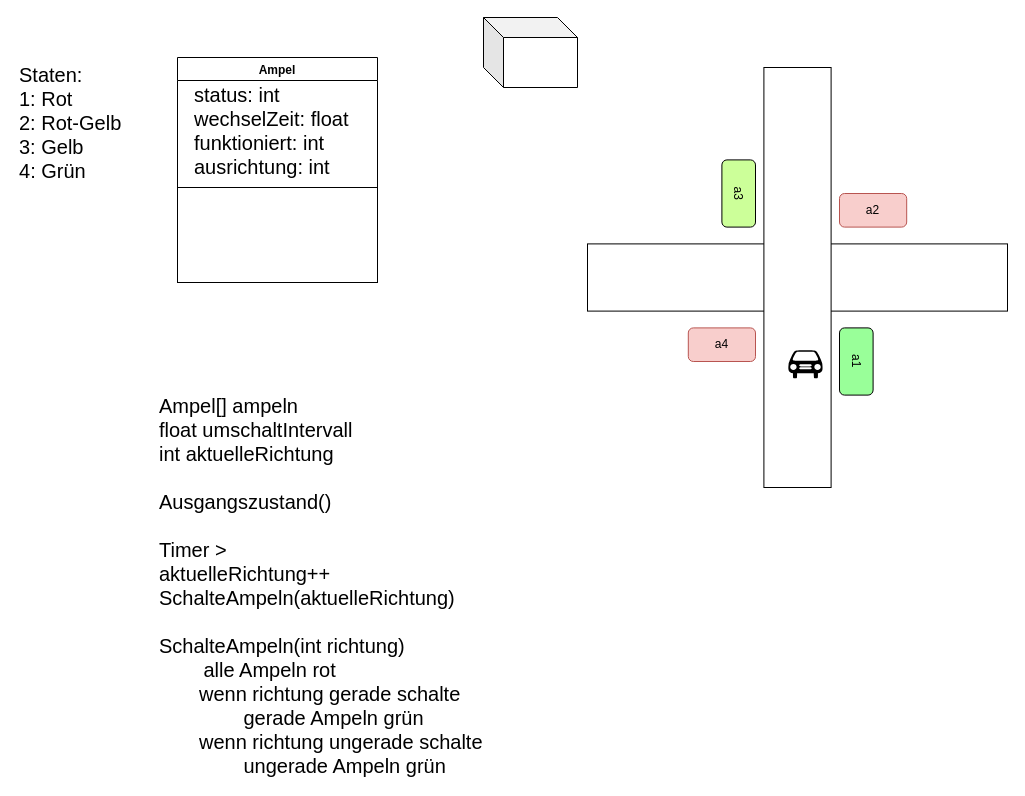
This 1025x796 diagram has some shape labels left out. The shapes that lost their labels are listed below. From the top down, each one's box as (x1, y1, x2, y2) in pixels, then its label:
(482, 16, 578, 88): Zentrale
(176, 186, 378, 282): schalte(fahren: bool) pruefeFunktion(): int
